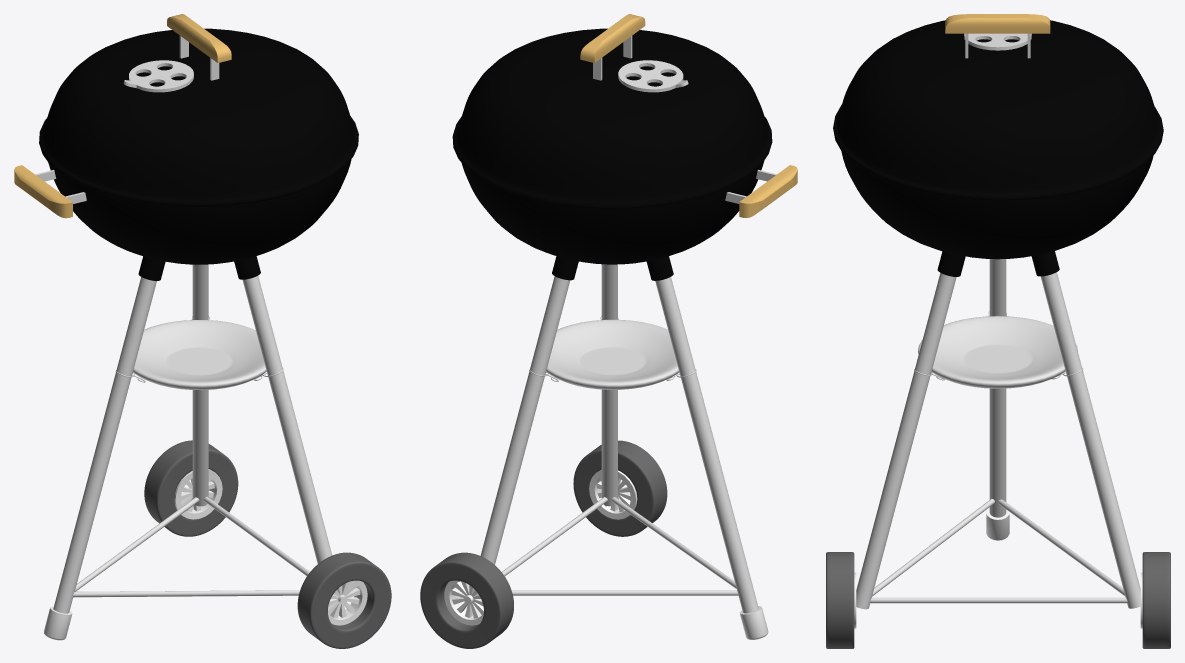
File: grill-basic.glb
The picture shows the model from 3 angles, left to right: view 1: azimuth 30°, elevation 25°; view 2: azimuth 150°, elevation 25°; view 3: azimuth 270°, elevation 25°; orthographic projection. The views are drawn at different scales.
Parts seen in each view (by area): view 1: grill_lid_bowl, grill_bottom_bowl, grill_ash_pan, grill_leg1, grill_wheel1, grill_leg2, grill_wheel2, grill_leg3, grill_vent_cover, grill_strut1, grill_side_handle, grill_top_handle (+5 smaller); view 2: grill_lid_bowl, grill_bottom_bowl, grill_ash_pan, grill_leg1, grill_wheel2, grill_leg3, grill_wheel1, grill_leg2, grill_vent_cover, grill_top_handle, grill_side_handle, grill_wheel2_spokes (+5 smaller); view 3: grill_lid_bowl, grill_bottom_bowl, grill_ash_pan, grill_leg3, grill_leg2, grill_leg1, grill_wheel1, grill_wheel2, grill_top_handle, grill_strut2, grill_strut3, grill_strut1 (+4 smaller).
Part boxes in pixels (<box>): grill_lid_bowl: <box>39,28,358,206</box>; grill_bottom_bowl: <box>48,159,351,264</box>; grill_ash_pan: <box>133,320,266,390</box>; grill_leg1: <box>53,277,156,613</box>; grill_wheel1: <box>297,552,391,648</box>; grill_leg2: <box>242,276,337,594</box>; grill_wheel2: <box>144,440,238,536</box>; grill_leg3: <box>192,264,208,506</box>; grill_vent_cover: <box>123,60,193,92</box>; grill_strut1: <box>73,590,299,597</box>; grill_side_handle: <box>14,165,72,218</box>; grill_top_handle: <box>167,14,231,62</box>; grill_lid_bowl: <box>452,28,772,208</box>; grill_bottom_bowl: <box>461,161,764,264</box>; grill_ash_pan: <box>546,319,678,389</box>; grill_leg1: <box>655,277,758,613</box>; grill_wheel2: <box>420,552,513,648</box>; grill_leg3: <box>474,276,570,594</box>; grill_wheel1: <box>573,440,667,536</box>; grill_leg2: <box>601,264,617,506</box>; grill_vent_cover: <box>618,60,688,92</box>; grill_top_handle: <box>580,14,645,62</box>; grill_side_handle: <box>739,165,797,217</box>; grill_wheel2_spokes: <box>444,580,483,625</box>; grill_lid_bowl: <box>833,20,1163,200</box>; grill_bottom_bowl: <box>841,151,1153,259</box>; grill_ash_pan: <box>918,316,1077,388</box>; grill_leg3: <box>1040,272,1140,608</box>; grill_leg2: <box>856,273,956,609</box>; grill_leg1: <box>989,259,1006,517</box>; grill_wheel1: <box>826,552,854,648</box>; grill_wheel2: <box>1142,552,1170,648</box>; grill_top_handle: <box>945,14,1050,33</box>; grill_strut2: <box>870,597,1127,603</box>; grill_strut3: <box>997,499,1125,596</box>; grill_strut1: <box>872,498,994,596</box>.
Size of the model in its own units: 0.6456 by 1.17 by 0.6152.
